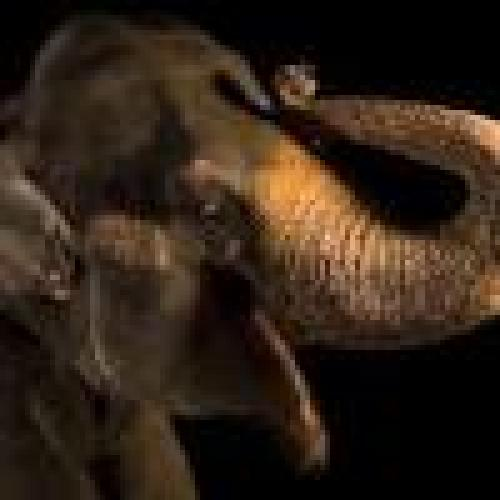asian_elephant-endangered: (18, 23, 490, 481)
